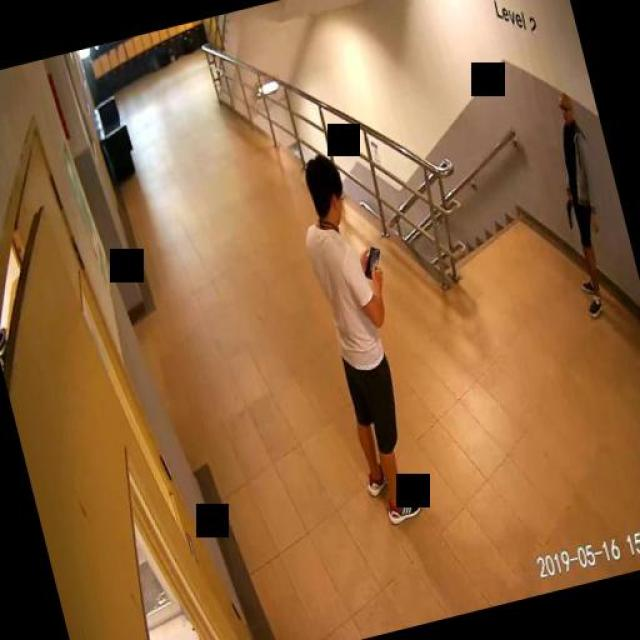gun: (562, 198, 576, 228)
